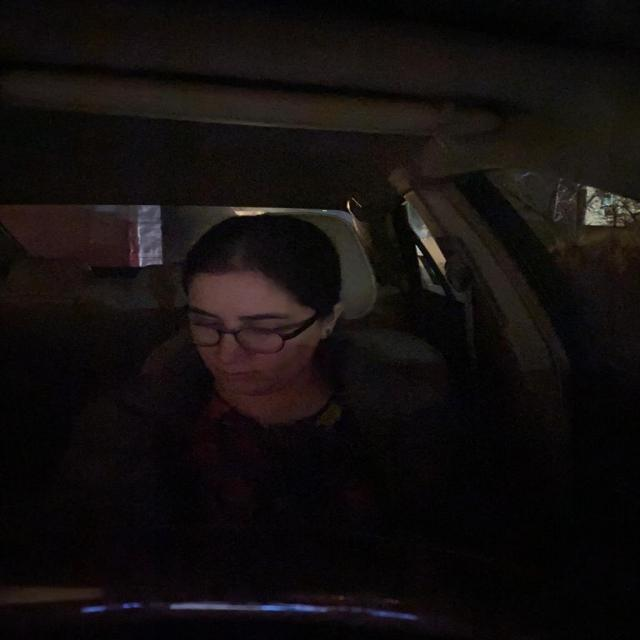drowsy: (169, 210, 357, 403)
